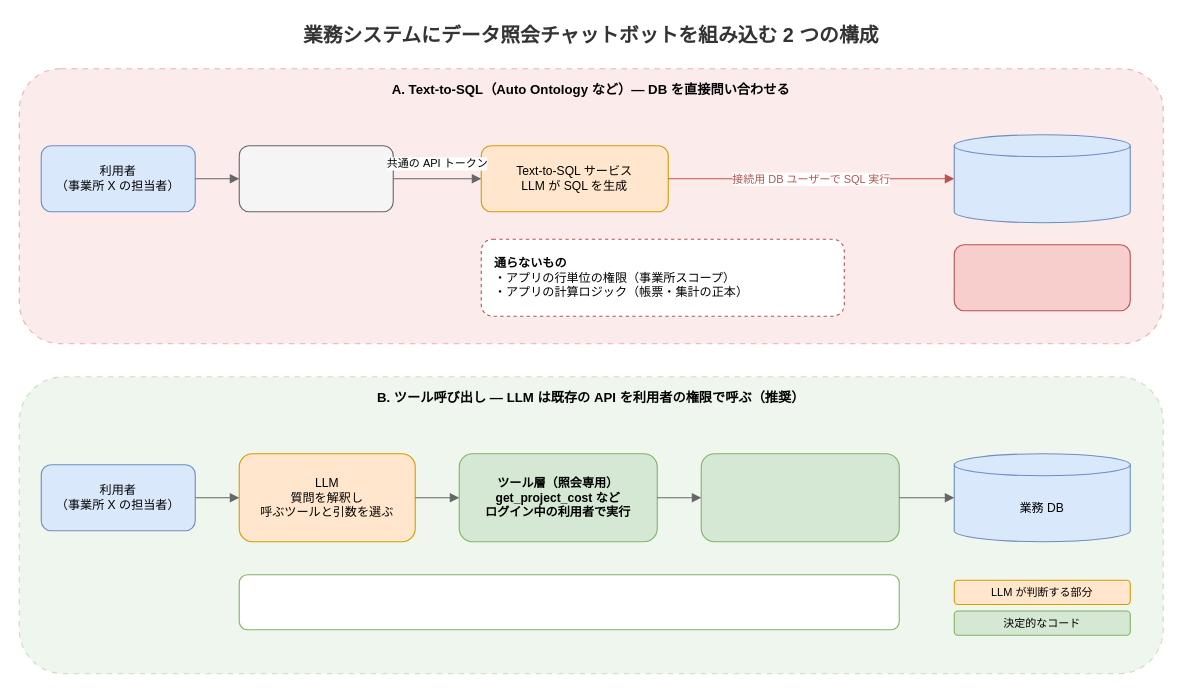
The diagram is 1183 pixels wide and 693 high, and some of its shapes have lost their labels. The shapes that lost their labels are listed below. From the top down, each one's centre as x and y in pixels, then its label:
At point (315, 178): "業務システム チャット画面".
At point (1041, 178): "業務 DB （全事業所のデータ）".
At point (1041, 277): "他事業所の数字が 見える・画面と 食い違うおそれ".
At point (799, 497): "既存の業務ロジック 権限チェック → 絞り込み → 正本の計算".
At point (568, 602): "見える範囲も計算方法も、画面から見た場合と同じになる。LLM が決めるのは「どのツールをどの引数で呼ぶか」だけ".
